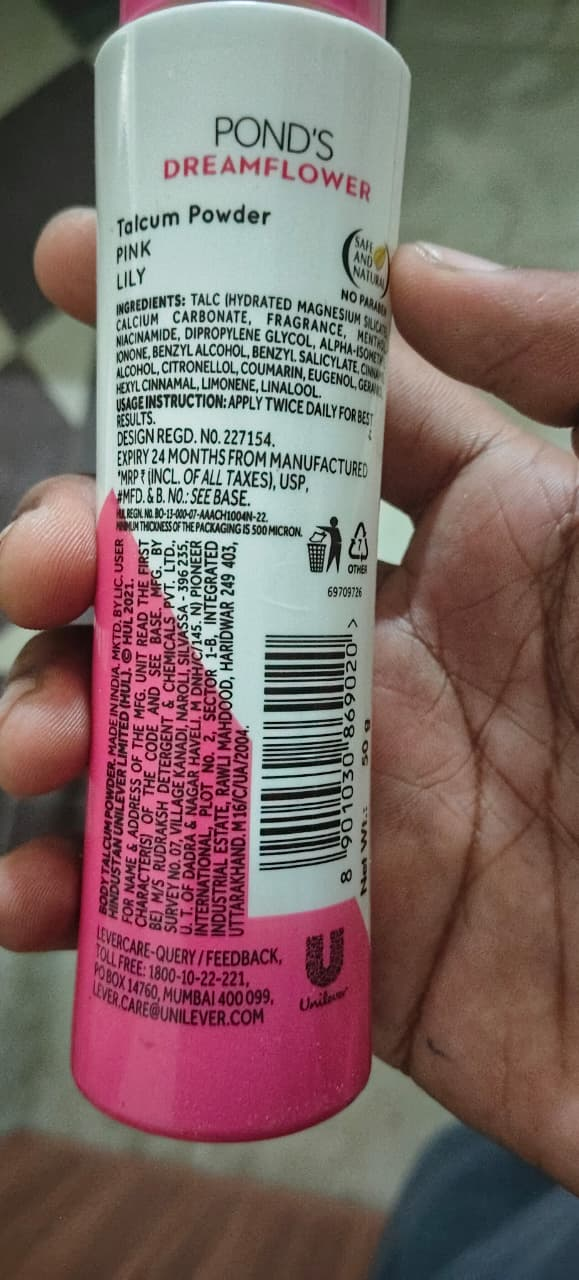brand_panel: (202, 100, 356, 162)
consumer_care: (86, 922, 287, 1045)
manufacturer: (91, 529, 254, 941)
origin: (100, 662, 122, 758)
